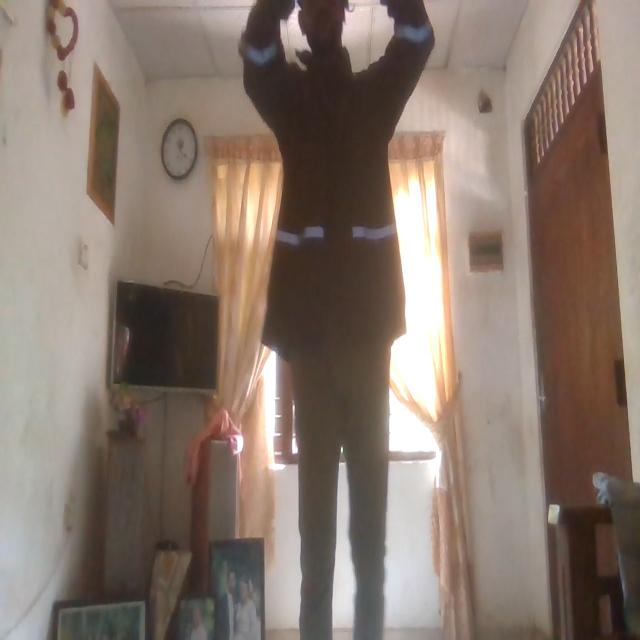Jacket_Wearer: (250, 0, 424, 340)
Person: (250, 0, 423, 638)
